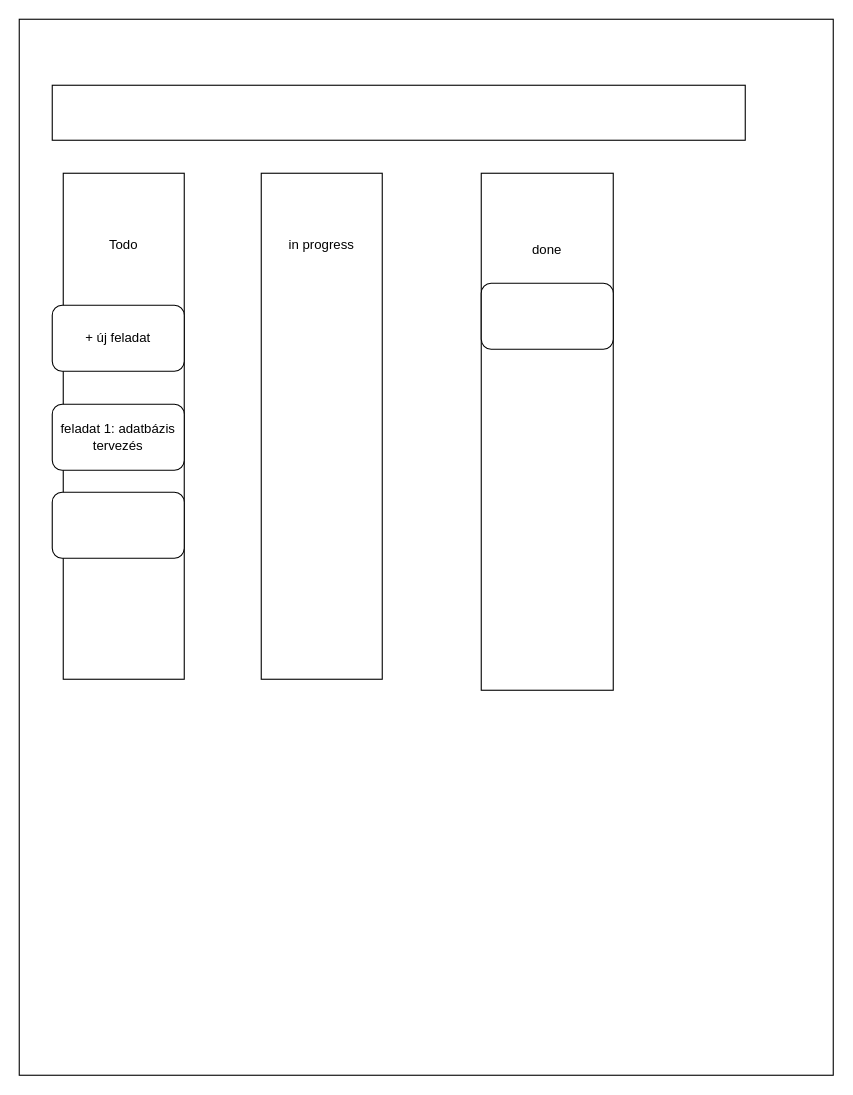
The diagram is 853 pixels wide and 1095 high, and some of its shapes have lost their labels. Each missing label, with the centre of its shape:
feladat 0 : Git Hub létrehozása: the point at 546,315
Taskflow-kanban tábla: the point at 398,112
